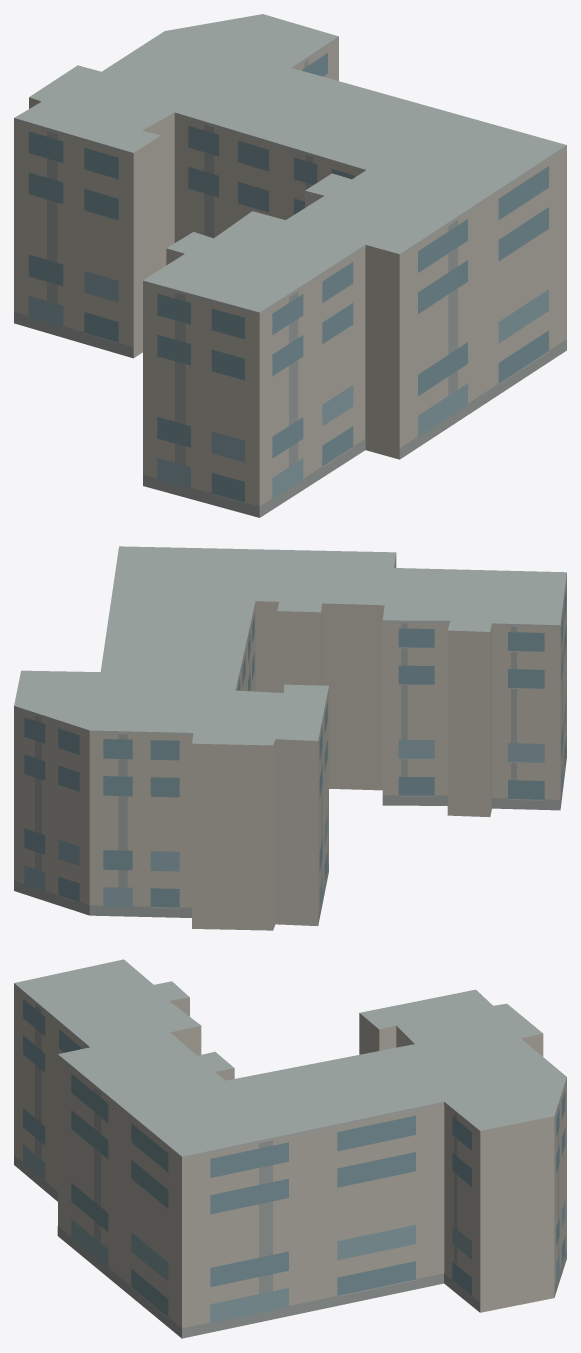
File: survey-upis-32511751.glb
3 views of the same model, one above another, from view 1: azimuth 30°, elevation 25°; view 2: azimuth 150°, elevation 25°; view 3: azimuth 270°, elevation 25° (orthographic). The views are drawn at different scales.
Parts seen in each view (by area): view 1: survey-upis-32511751.tmp; view 2: survey-upis-32511751.tmp; view 3: survey-upis-32511751.tmp.
Boxes of the visible parts, left/top/right/bottom form: survey-upis-32511751.tmp: left=14, top=14, right=566, bottom=517; survey-upis-32511751.tmp: left=14, top=546, right=566, bottom=930; survey-upis-32511751.tmp: left=14, top=959, right=566, bottom=1338.
Bounding box in the file's own units: 35.51 × 15.25 × 42.02.
